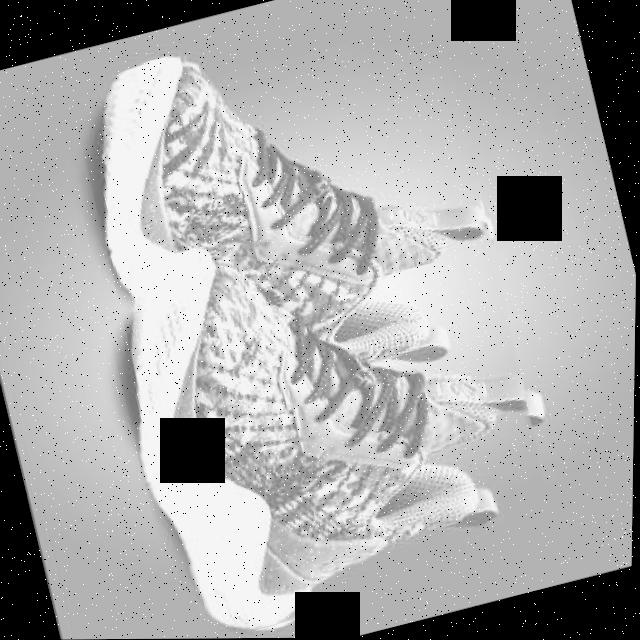shoe: (93, 181, 572, 639), (63, 0, 526, 449)
